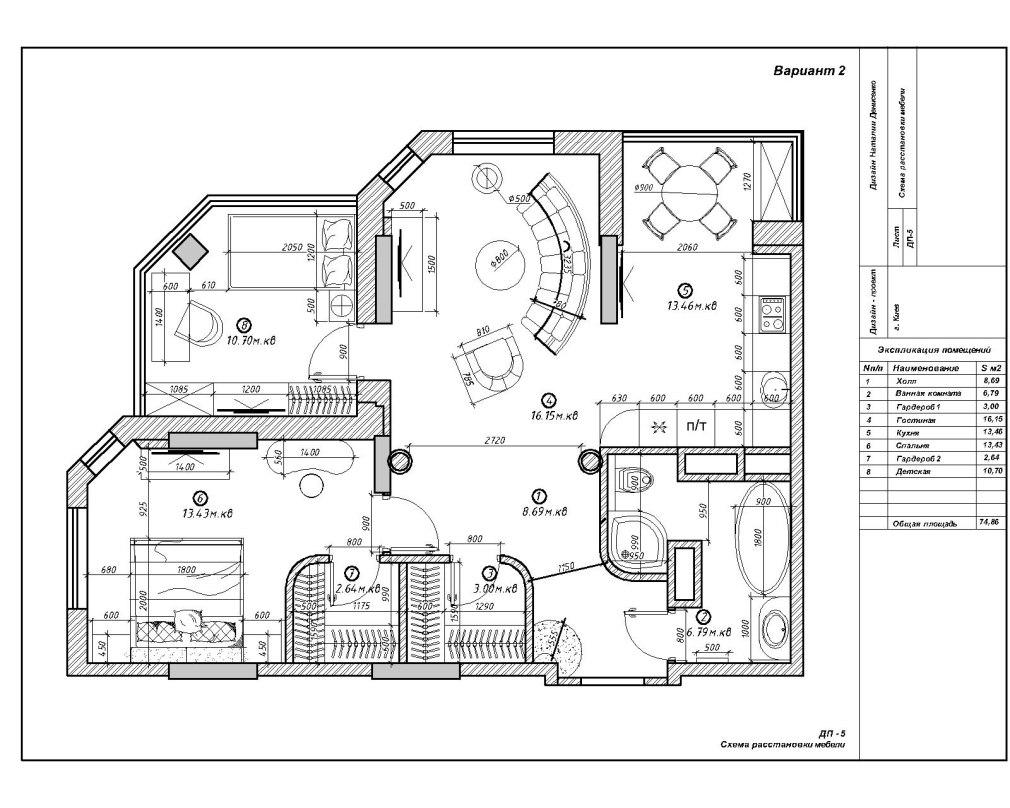bathroom: (609, 453, 792, 664)
bedroom: (87, 440, 388, 664), (144, 205, 358, 415)
dining_room: (625, 141, 797, 250)
hallway: (390, 448, 668, 677)
kitchen: (603, 253, 792, 449)
living_room: (359, 154, 600, 447)
walk_in_closet: (408, 563, 526, 664), (293, 563, 401, 664)
